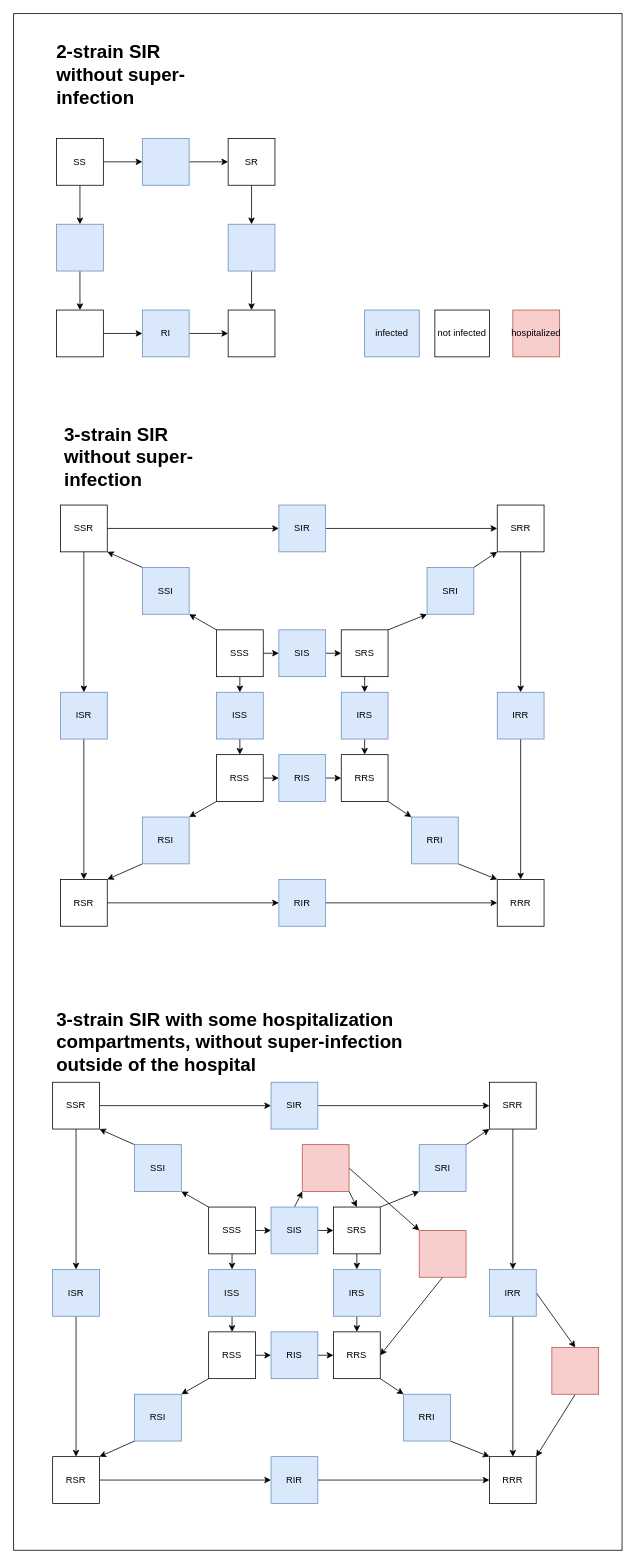
This 636x1564 diagram has some shape labels left out. Here are the shapes that lost their labels. From the top down, the box of each, then its label:
(142, 138, 189, 185): SI
(56, 223, 103, 271): IS
(227, 223, 275, 271): IR
(56, 309, 103, 357): RS
(227, 309, 275, 357): RR
(301, 1144, 349, 1191): SHS
(418, 1230, 466, 1277): HHS
(551, 1347, 599, 1394): HRR
